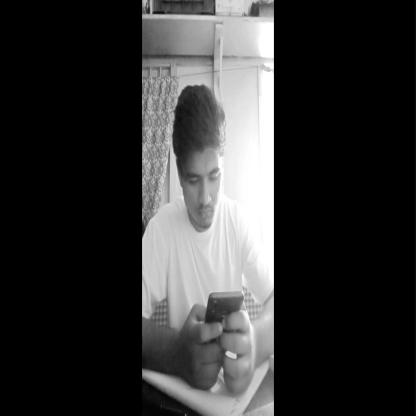Normal: (172, 81, 228, 236)
